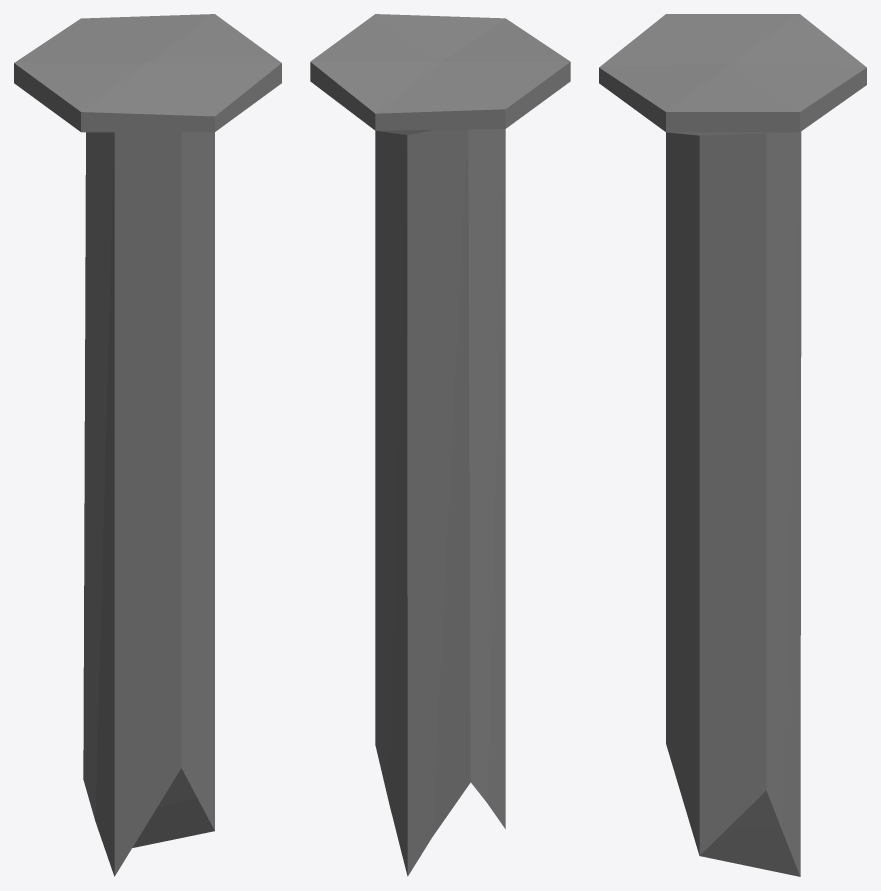
The model's file is nail_1_top.FBX.
3 renders of one model, left to right at view 1: azimuth 30°, elevation 25°; view 2: azimuth 150°, elevation 25°; view 3: azimuth 270°, elevation 25°, orthographic. The views are drawn at different scales.
Visible parts, largest first — view 1: nail_low_poly_t; view 2: nail_low_poly_t; view 3: nail_low_poly_t.
Boxes of the visible parts, x1,y1,x2,y2 form: nail_low_poly_t: [14, 14, 281, 876]; nail_low_poly_t: [310, 14, 570, 876]; nail_low_poly_t: [599, 14, 866, 876].
Size of the model in its own units: 8.18 by 31.67 by 9.45.
1 material, 1 textured.
